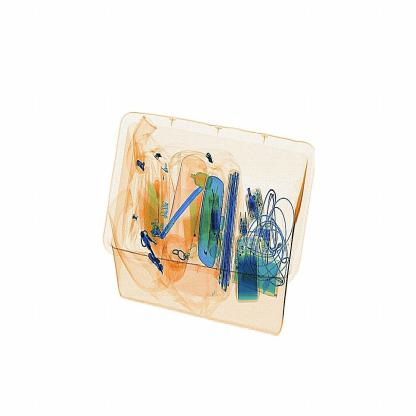pliers: (155, 175, 206, 247)
